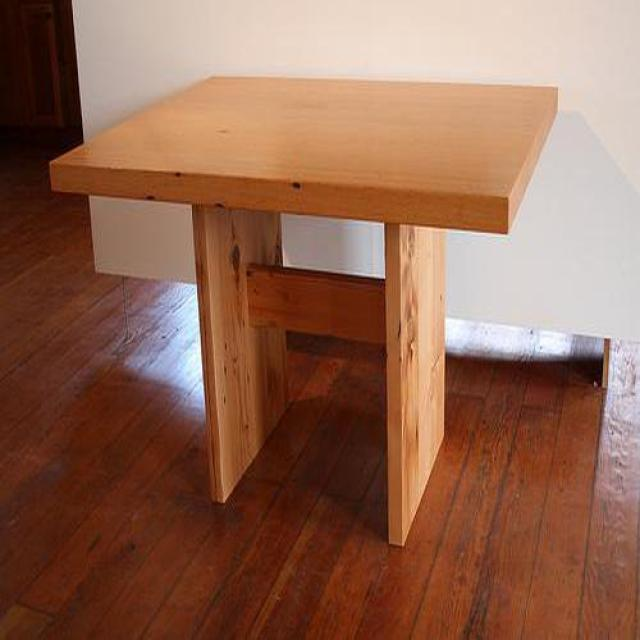table: (50, 77, 559, 548)
